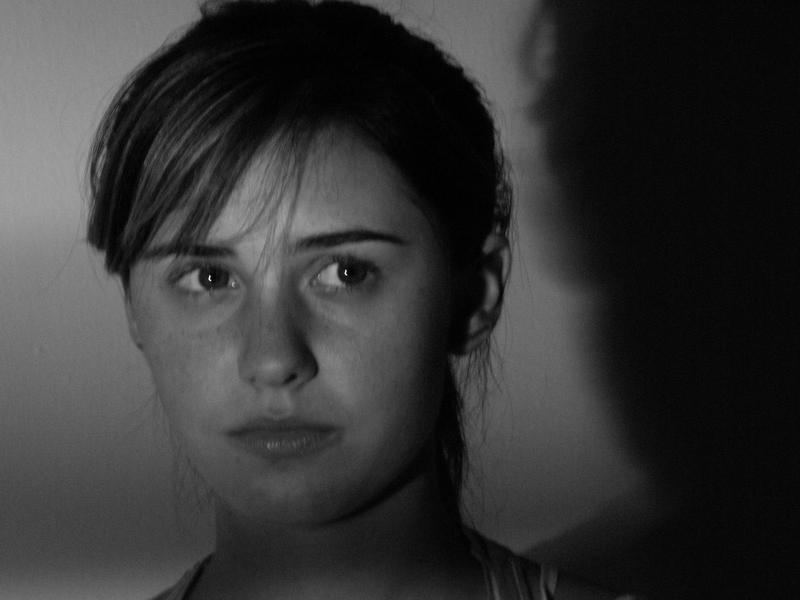person: (76, 8, 608, 600)
